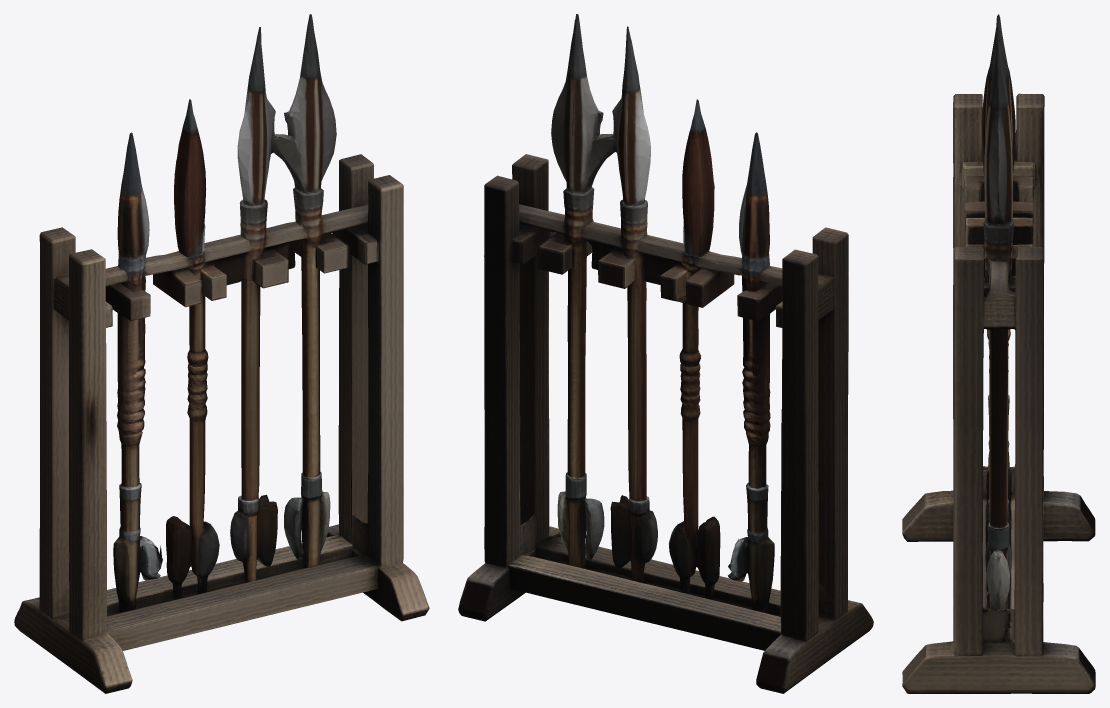
The model's file is weaponrack_javelin.glb.
3 renders of one model, left to right at view 1: azimuth 30°, elevation 25°; view 2: azimuth 150°, elevation 25°; view 3: azimuth 270°, elevation 25°, orthographic. The views are drawn at different scales.
Visible parts, largest first — view 1: world; view 2: world; view 3: world.
Boxes of the visible parts, x1,y1,x2,y2 form: world: (14,14,429,693); world: (458,14,873,693); world: (902,14,1095,693).
Bounding box in the file's own units: 0.5809 × 0.9998 × 0.2836.
1 material, 1 textured.
